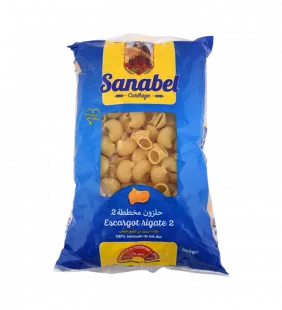SANABEL CARTHAGE: (44, 27, 236, 285)
